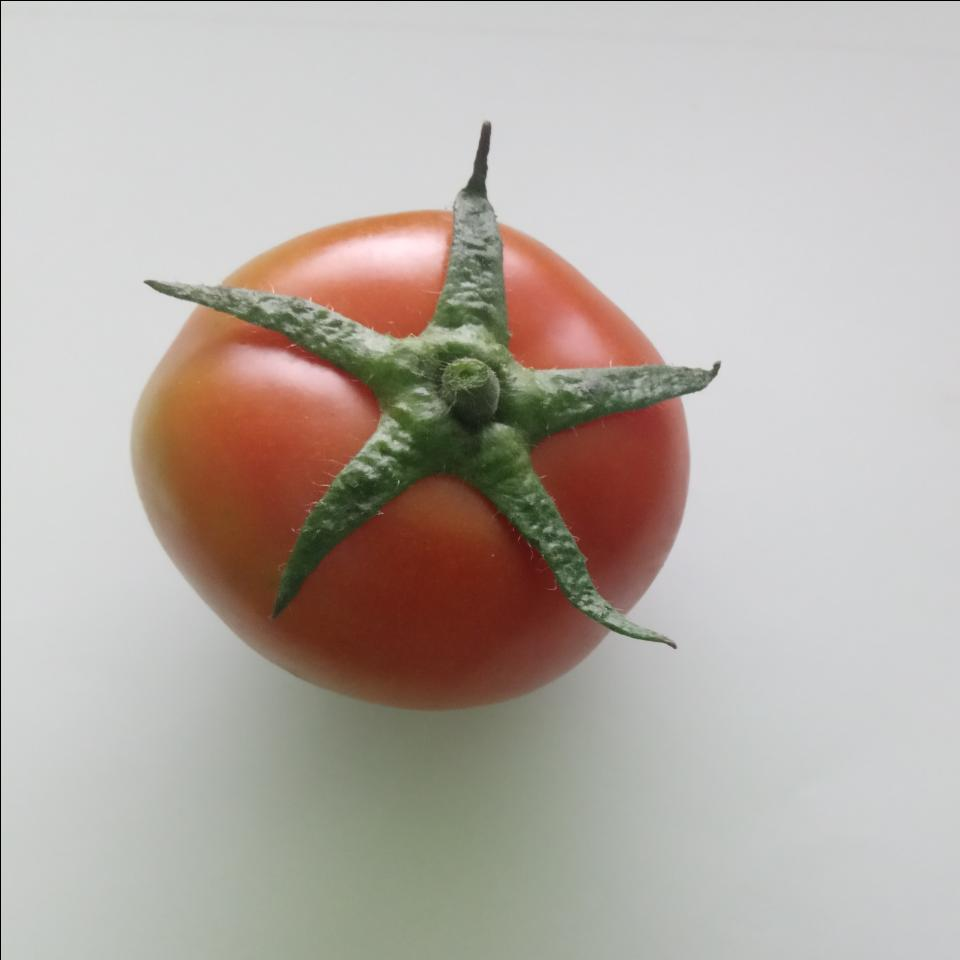Healthy: (122, 198, 702, 714)
